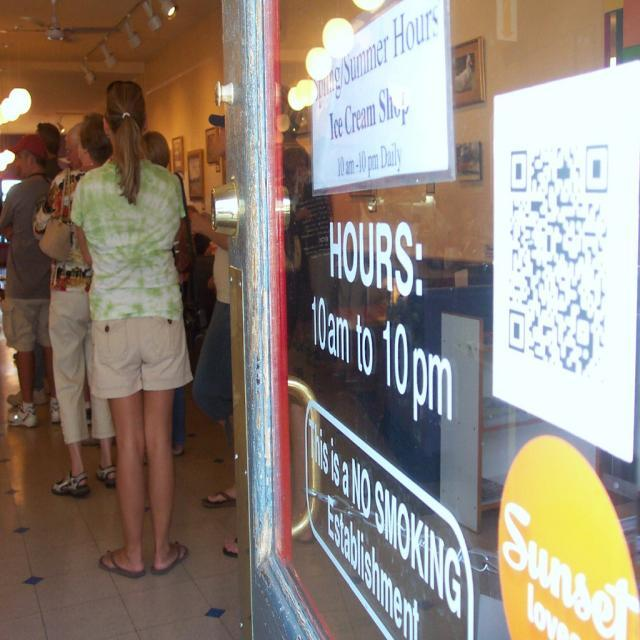qr-code: (508, 144, 608, 382)
